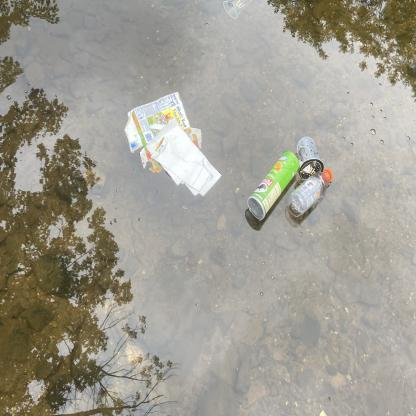trash: (121, 86, 226, 203), (245, 148, 302, 224), (283, 163, 337, 218), (289, 134, 324, 176)
